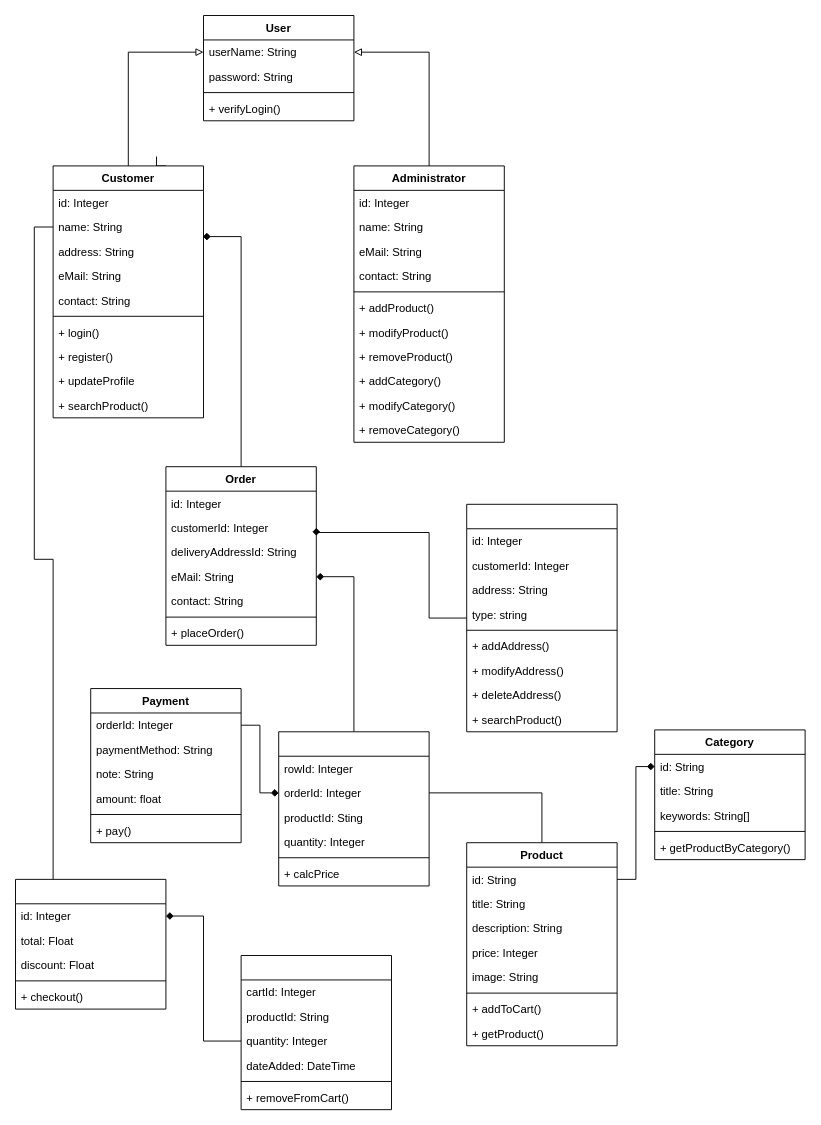
This 821x1125 diagram has some shape labels left out. The shapes that lost their labels are listed below. From the top down, each one's box as (x1, y1, x2, y2) in pixels, then its label:
(466, 503, 617, 732): DeliveryAddress
(278, 731, 429, 886): OrderDetail
(15, 878, 166, 1009): Cart
(240, 955, 392, 1110): CartItem
